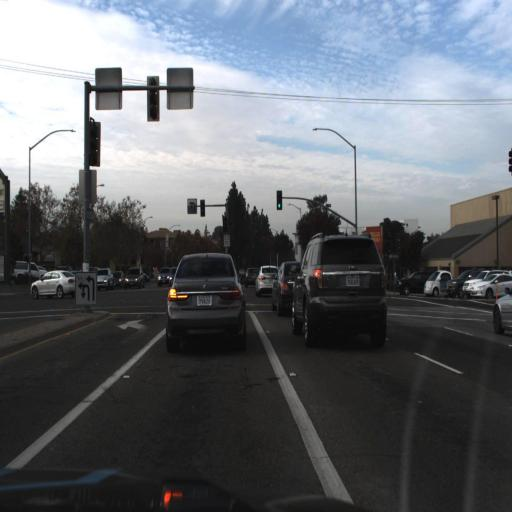car: (288, 228, 386, 348), (162, 249, 247, 352), (269, 255, 299, 312), (462, 269, 512, 302), (30, 270, 76, 298), (422, 269, 457, 298), (492, 284, 512, 334), (253, 258, 278, 298), (396, 269, 433, 296), (244, 257, 262, 290), (124, 265, 145, 290), (94, 267, 116, 290), (153, 263, 168, 284)
trafficLight: (146, 78, 160, 130), (87, 122, 101, 166), (221, 212, 228, 232)
trafficLight-Green: (274, 190, 282, 214), (198, 197, 206, 219), (199, 198, 207, 220), (220, 212, 229, 228), (277, 191, 282, 211)
truck: (10, 260, 48, 285)
